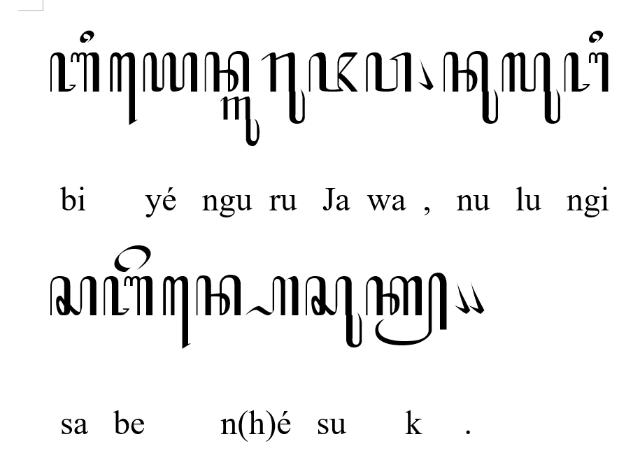-k: (365, 271, 447, 345)
_h: (245, 276, 299, 316)
b: (49, 52, 100, 93), (103, 276, 153, 316)
e: (114, 244, 150, 272)
e1: (110, 52, 138, 126), (162, 275, 190, 349)
gu: (220, 96, 260, 146)
i: (588, 30, 604, 42), (80, 30, 94, 42)
j: (308, 52, 359, 93)
kom: (468, 281, 484, 315), (417, 58, 433, 90), (454, 282, 470, 314)
lu: (501, 52, 561, 124)
n: (204, 50, 250, 92), (195, 274, 241, 316)
nga: (563, 52, 609, 93)
nu: (443, 51, 499, 124)
ru: (261, 51, 305, 123)
s: (49, 276, 96, 316)
su: (304, 276, 362, 348)
w: (366, 52, 412, 93)
y: (142, 53, 198, 92)
